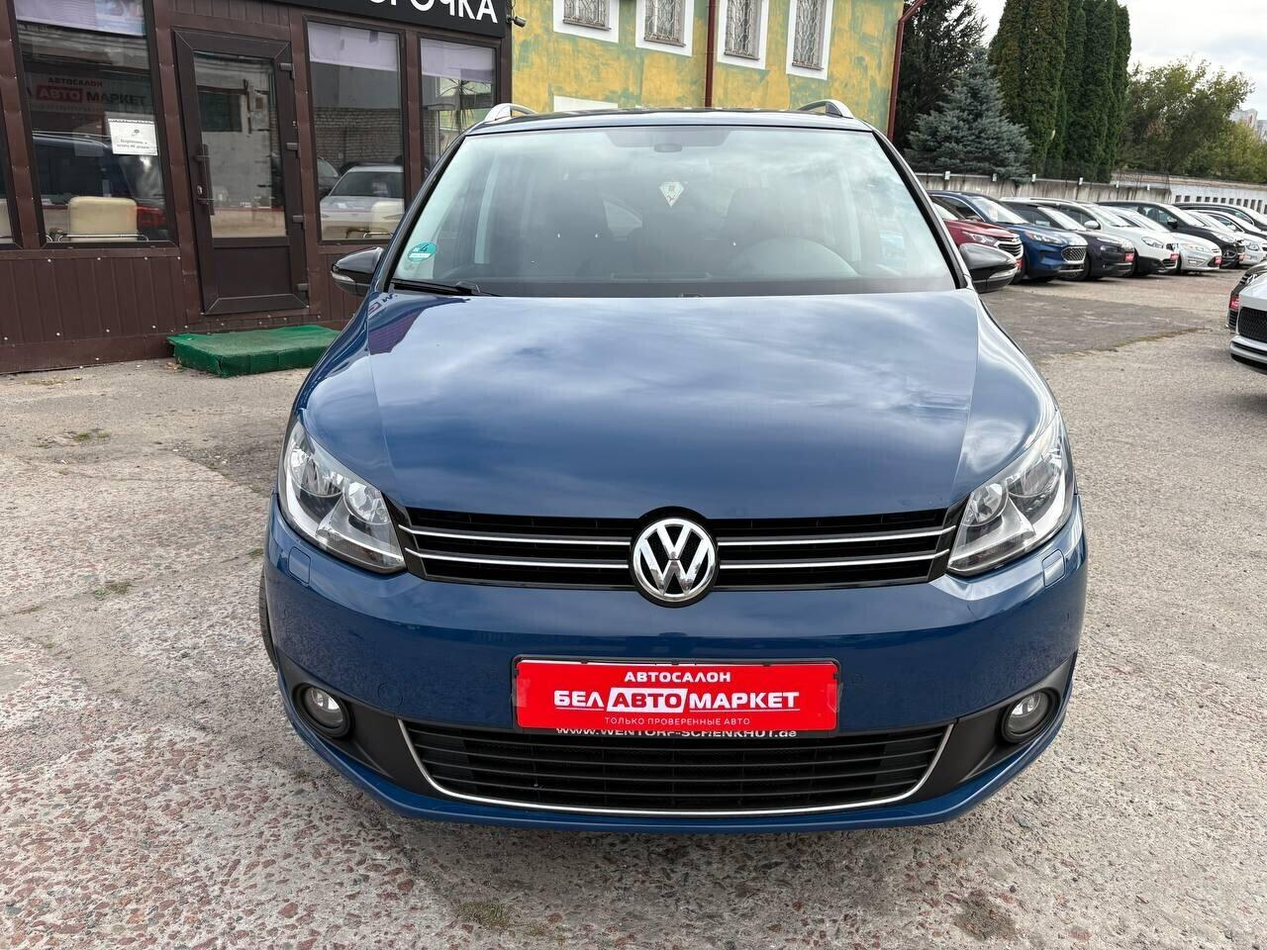Touran_2010-2015: (261, 101, 1085, 820)
